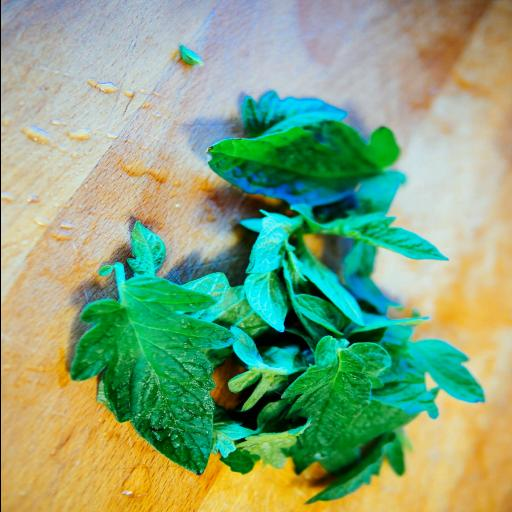Healthy: (70, 272, 236, 476), (276, 328, 384, 476)
